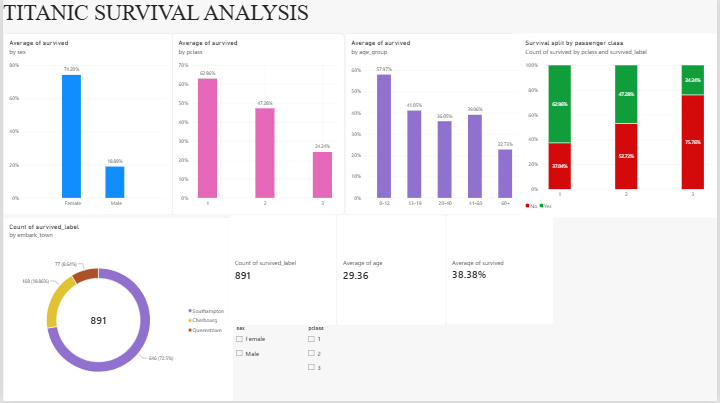

This screenshot's page, from the dashboard's own definition file:
{"tool":"powerbi","page":{"name":"Page 1","canvas":[1920,1080],"ordinal":0},"visuals":[{"type":"cardVisual","fields":{"Data":["Avg(clean_titanic.survived)"]},"box":[1191.4,577.1,291.6,294.8],"z":0},{"type":"cardVisual","fields":{"Data":["Avg(clean_titanic.age)"]},"box":[896.7,577.1,294.8,297.9],"z":1},{"type":"clusteredColumnChart","fields":{"Category":["clean_titanic.sex"],"Y":["Avg(clean_titanic.survived)"]},"box":[0,90,456.1,487.1],"z":2},{"type":"clusteredColumnChart","fields":{"Category":["clean_titanic.pclass"],"Y":["Avg(clean_titanic.survived)"]},"box":[456.1,90,462.3,487.1],"z":3},{"type":"clusteredColumnChart","fields":{"Category":["clean_titanic.age_group"],"Y":["Avg(clean_titanic.survived)"]},"box":[918.4,90,502.6,487.1],"z":4},{"type":"donutChart","fields":{"Category":["clean_titanic.embark_town"],"Y":["CountNonNull(clean_titanic.survived_label)"]},"box":[0,583.3,620.5,496.4],"z":5},{"type":"cardVisual","fields":{"Data":["CountNonNull(clean_titanic.survived_label)"]},"box":[605,577.1,291.6,297.9],"z":6},{"type":"textbox","box":[0,0,1498.6,114.8],"z":7},{"type":"slicer","fields":{"Values":["clean_titanic.sex"]},"box":[620,875,277.5,205],"z":8},{"type":"slicer","fields":{"Values":["clean_titanic.pclass"]},"box":[812.5,875,207.5,205],"z":9},{"type":"hundredPercentStackedColumnChart","title":"Survival split by passenger class","fields":{"Category":["clean_titanic.pclass"],"Series":["clean_titanic.survived_label"],"Y":["CountNonNull(clean_titanic.survived)"]},"box":[1387.1,90.3,532.3,493.5],"z":10}]}

Visuals, with their boxes in screenshot pixels (x1, y1, x2, y2), scaled from the page's 1920x1080 canvas onto the 720x403 screenshot:
cardVisual - Avg(clean_titanic.survived): 447,215,556,325
cardVisual - Avg(clean_titanic.age): 336,215,447,327
clusteredColumnChart - clean_titanic.sex x Avg(clean_titanic.survived): 0,34,171,215
clusteredColumnChart - clean_titanic.pclass x Avg(clean_titanic.survived): 171,34,344,215
clusteredColumnChart - clean_titanic.age_group x Avg(clean_titanic.survived): 344,34,533,215
donutChart - clean_titanic.embark_town x CountNonNull(clean_titanic.survived_label): 0,218,233,402
cardVisual - CountNonNull(clean_titanic.survived_label): 227,215,336,327
textbox: 0,0,562,43
slicer - clean_titanic.sex: 232,327,337,402
slicer - clean_titanic.pclass: 305,327,382,402
"Survival split by passenger class" hundredPercentStackedColumnChart: 520,34,719,218
